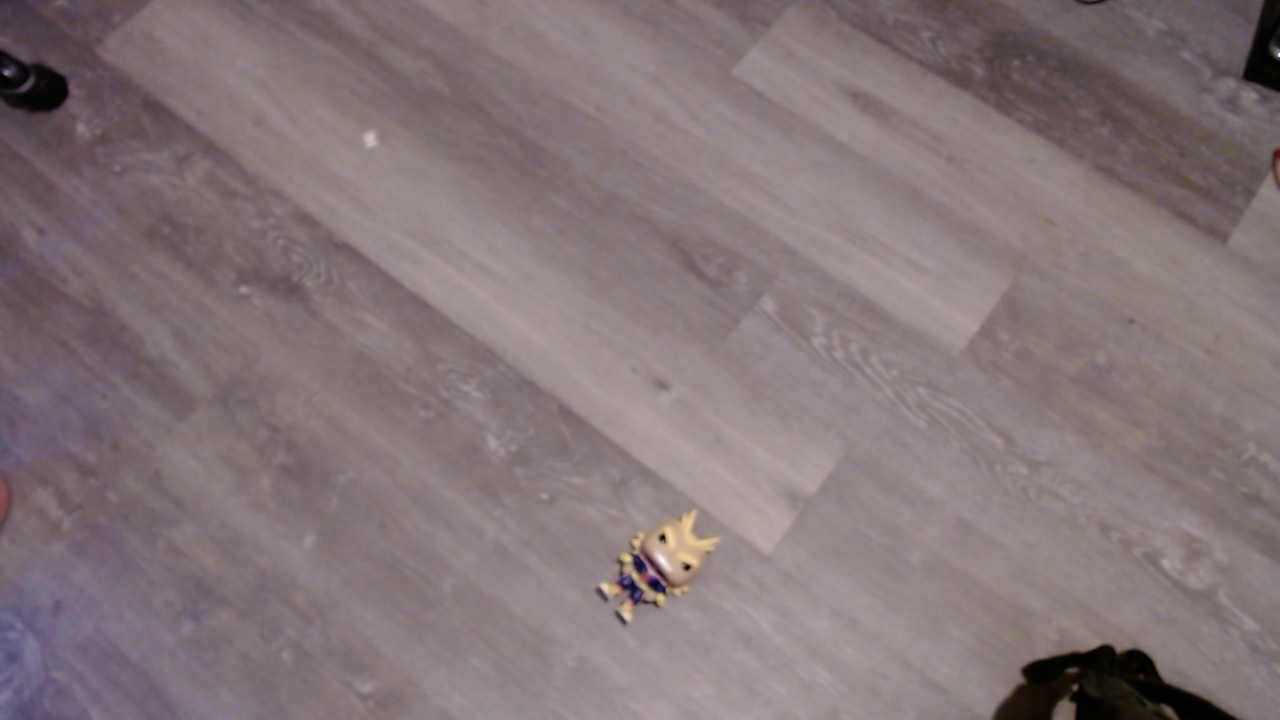all_might: (596, 515, 731, 639)
